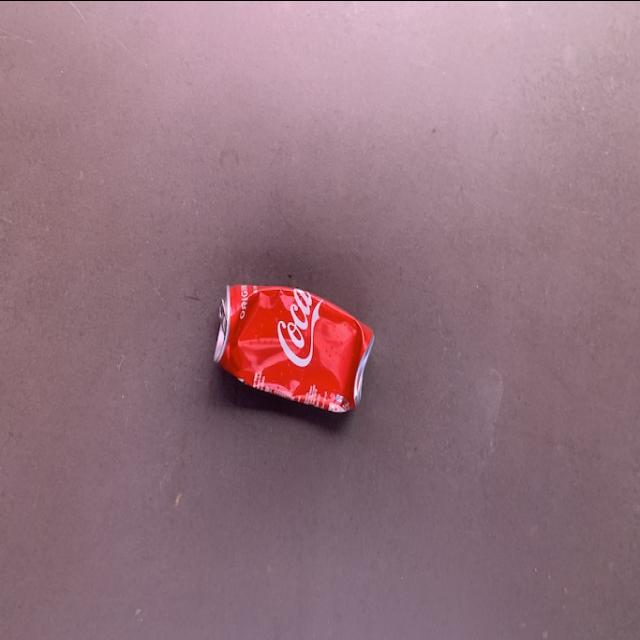Aluminum Can: (214, 277, 380, 415)
